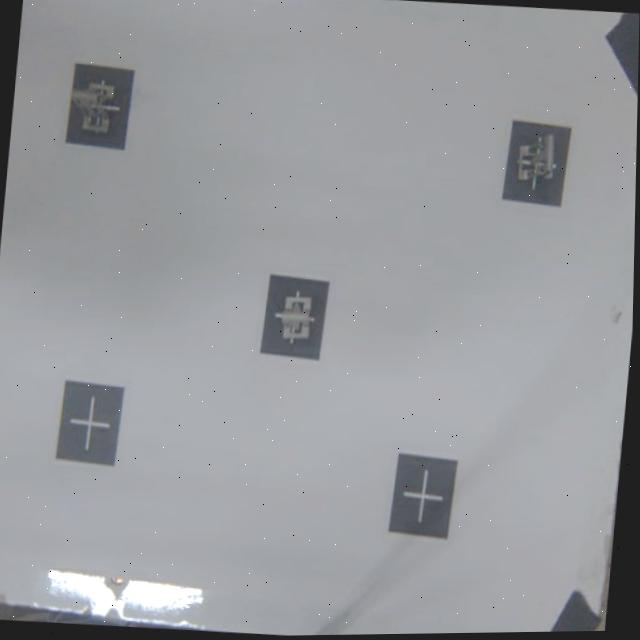pick3: (260, 272, 329, 357)
pick4: (62, 67, 131, 153)
